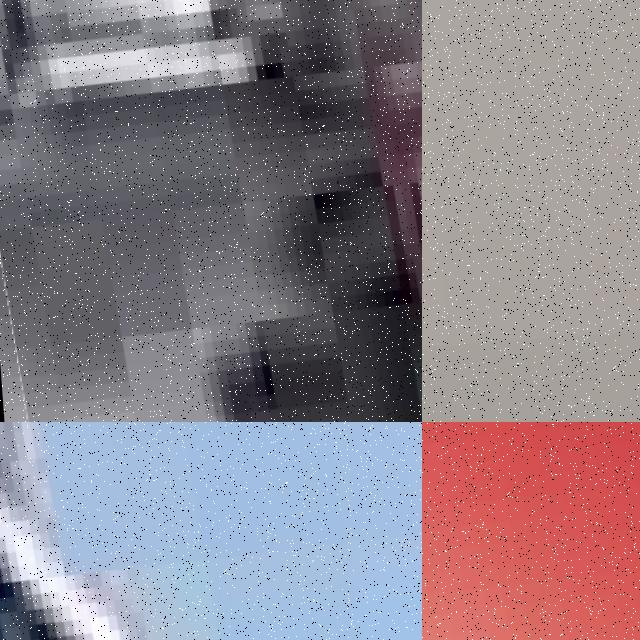0: (0, 0, 422, 422), (0, 422, 422, 640)
drone: (422, 422, 640, 640)
